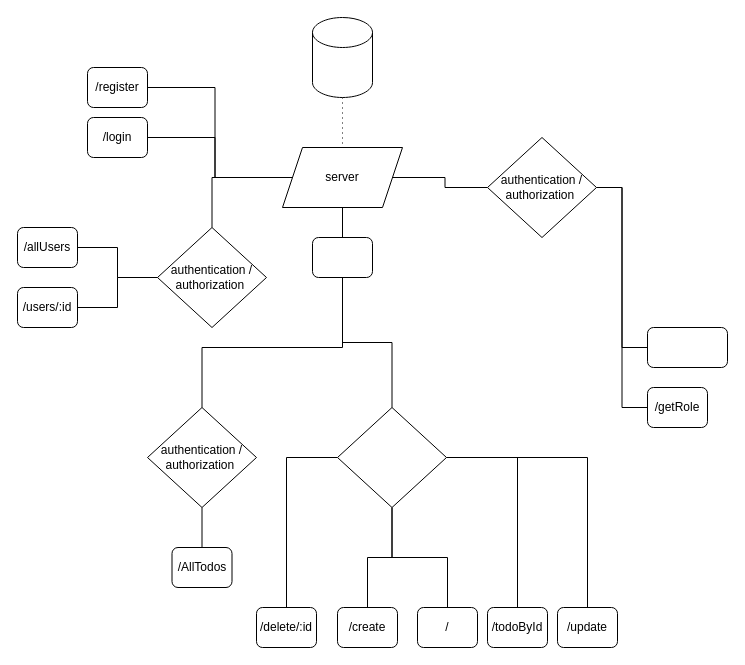
Some shapes in this 745 by 665 pixel diagram are drawn without their labels. Each missing label, with the box of its shape:
/createRole: (646, 326, 728, 368)
/todos: (312, 236, 372, 278)
authentication: (336, 406, 446, 508)
mongodb: (312, 16, 372, 98)
